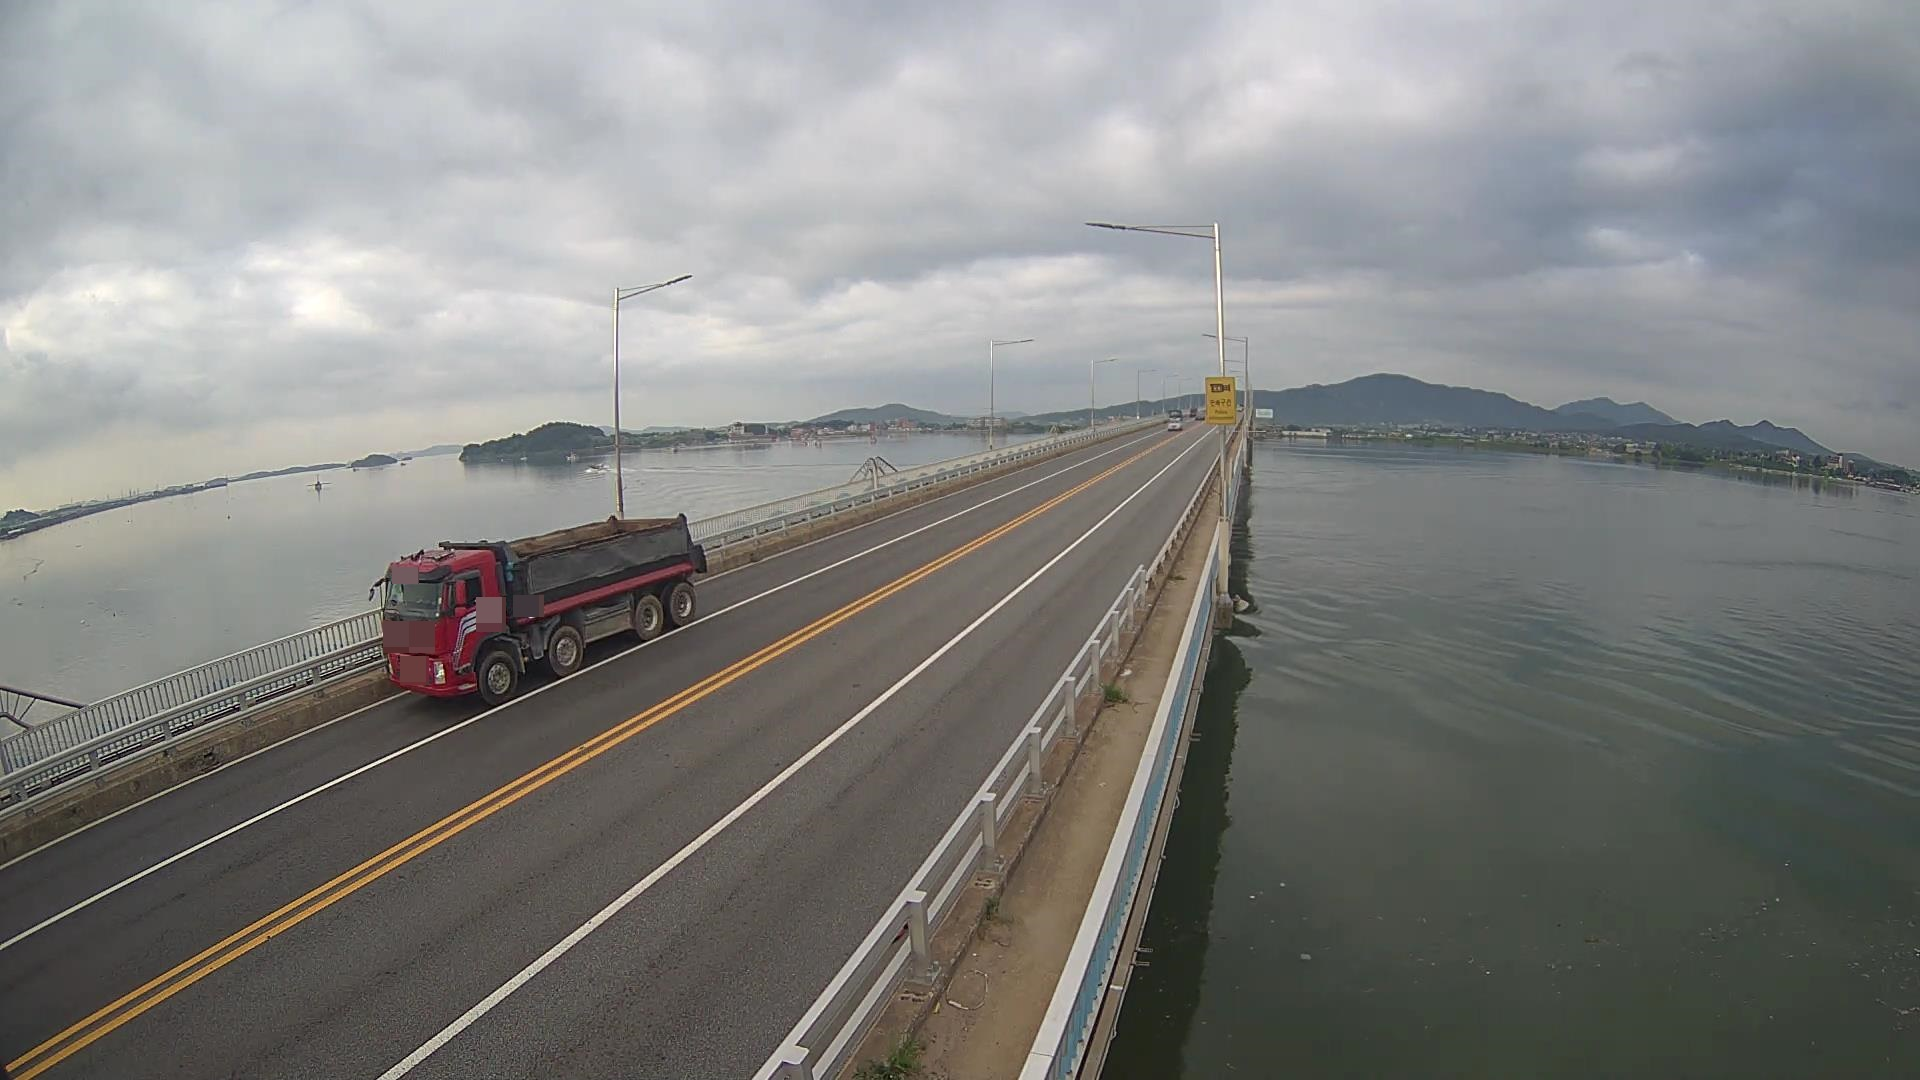정상차량: (368, 513, 708, 705)
